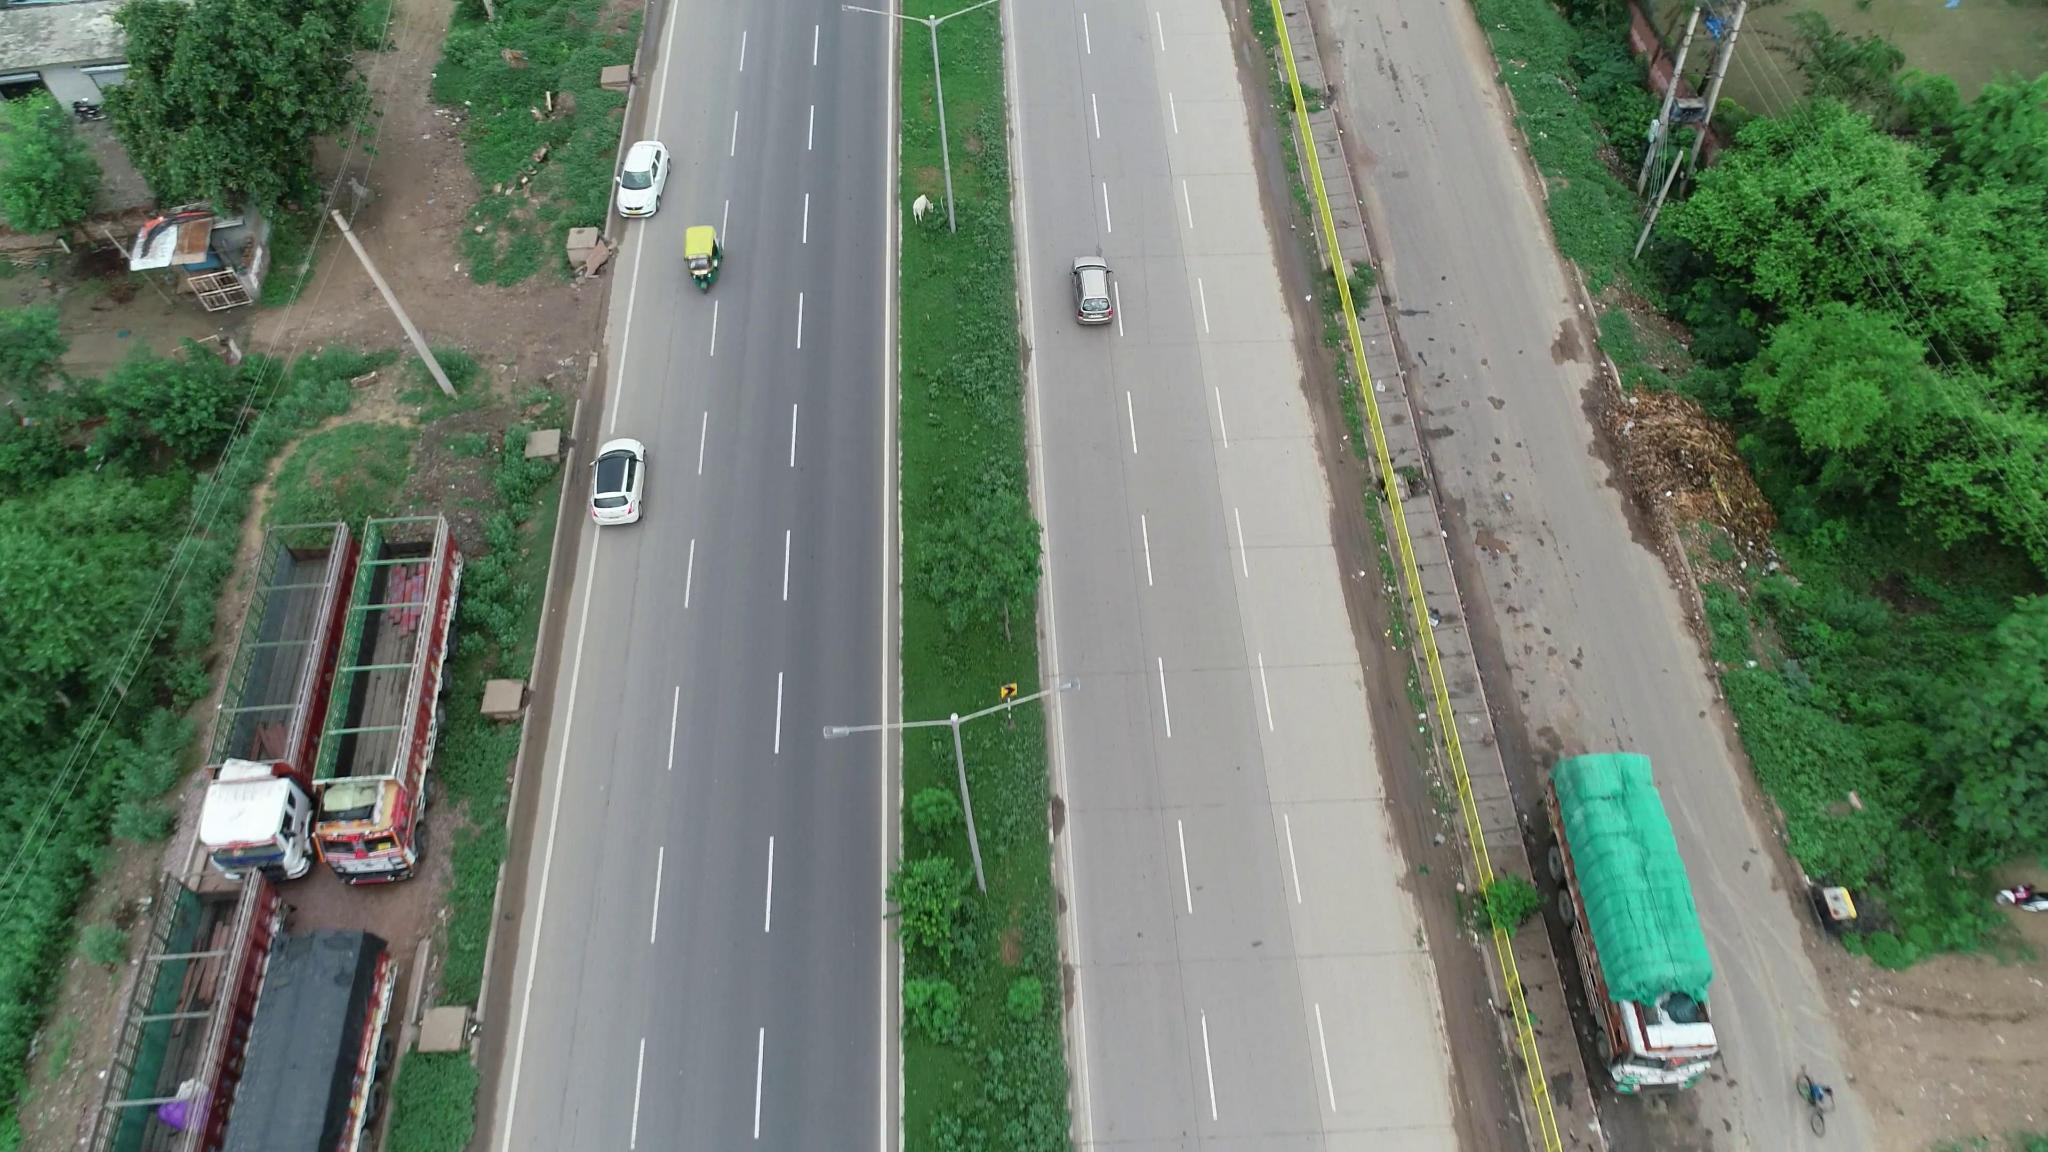Muddy_road: (1381, 678, 1449, 868)
